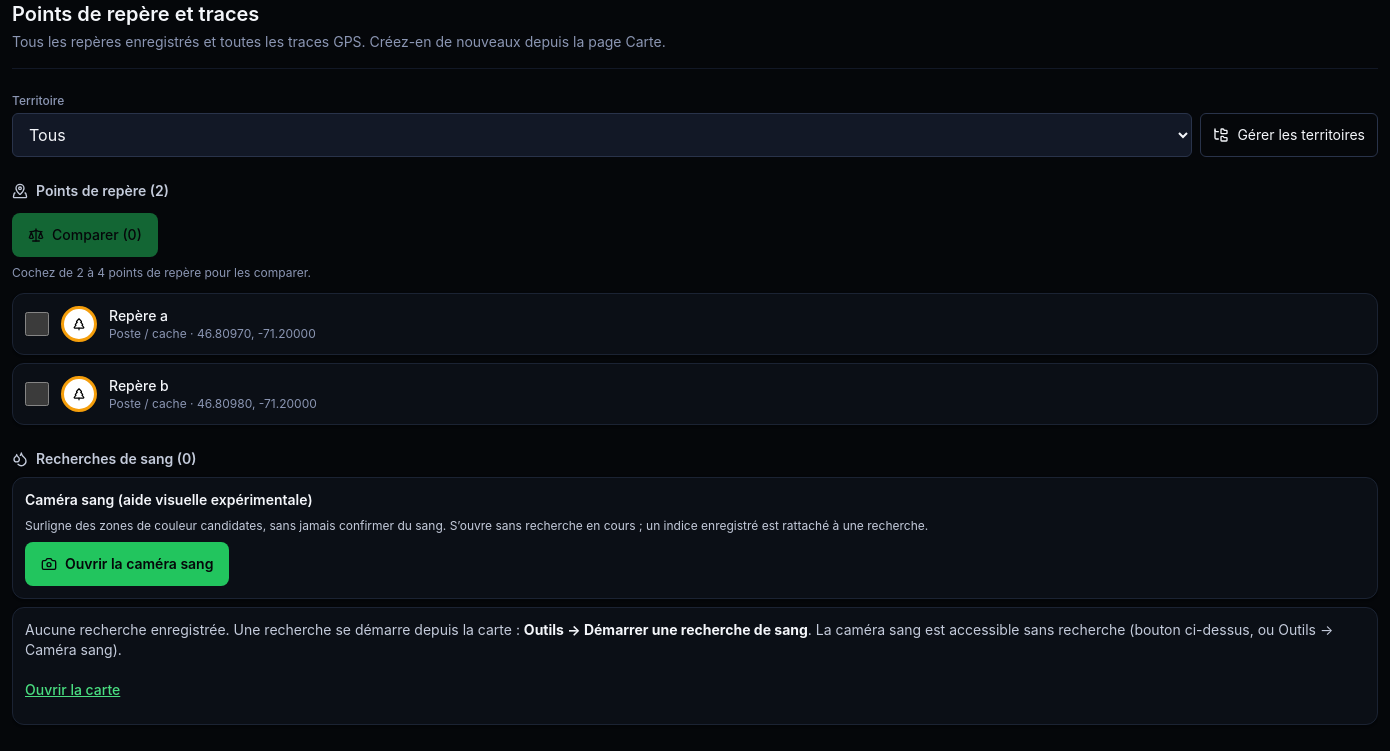
WaypointsPage — comparison selection › opens the comparison panel with the selected waypoints
Click the checkbox named "Comparer : Repère a" at (37,324), box left=25, top=312, right=49, bottom=336
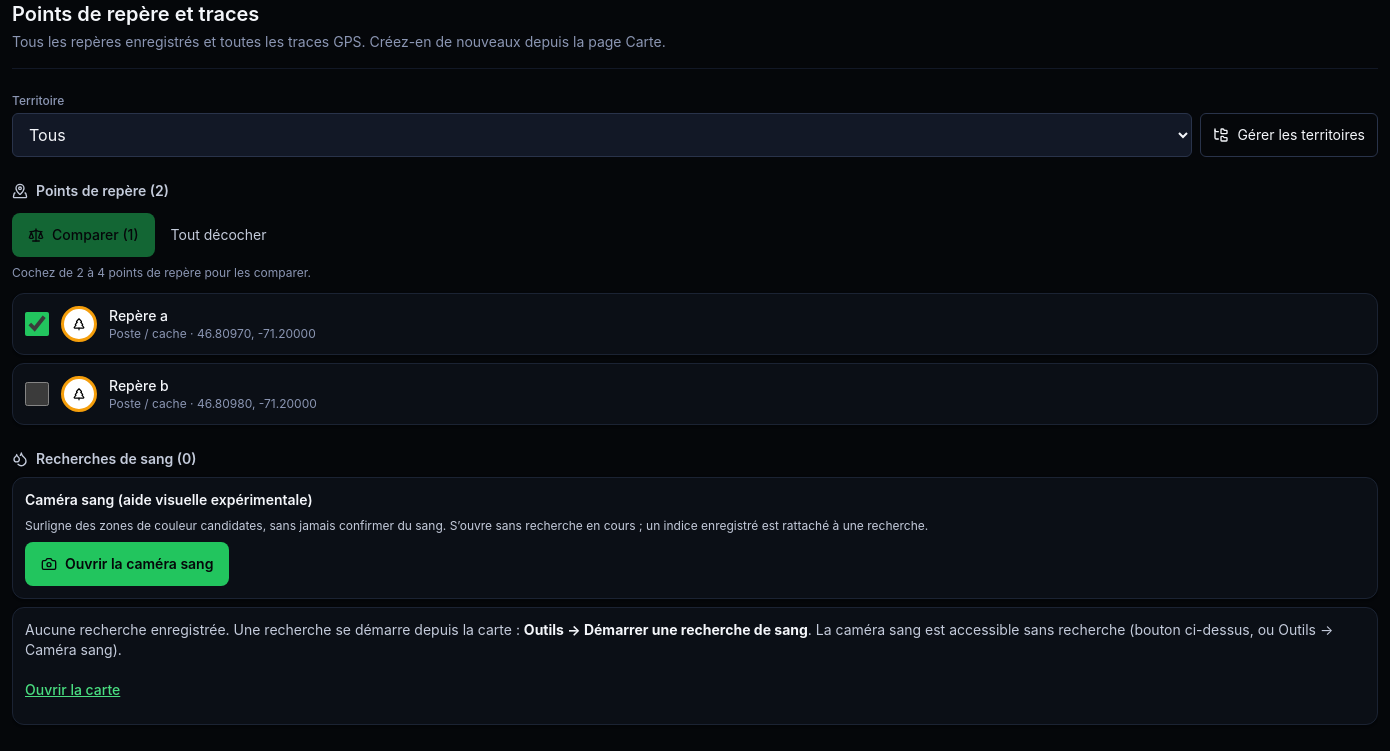
Click the checkbox named "Comparer : Repère b" at (37,394), box left=25, top=382, right=49, bottom=406
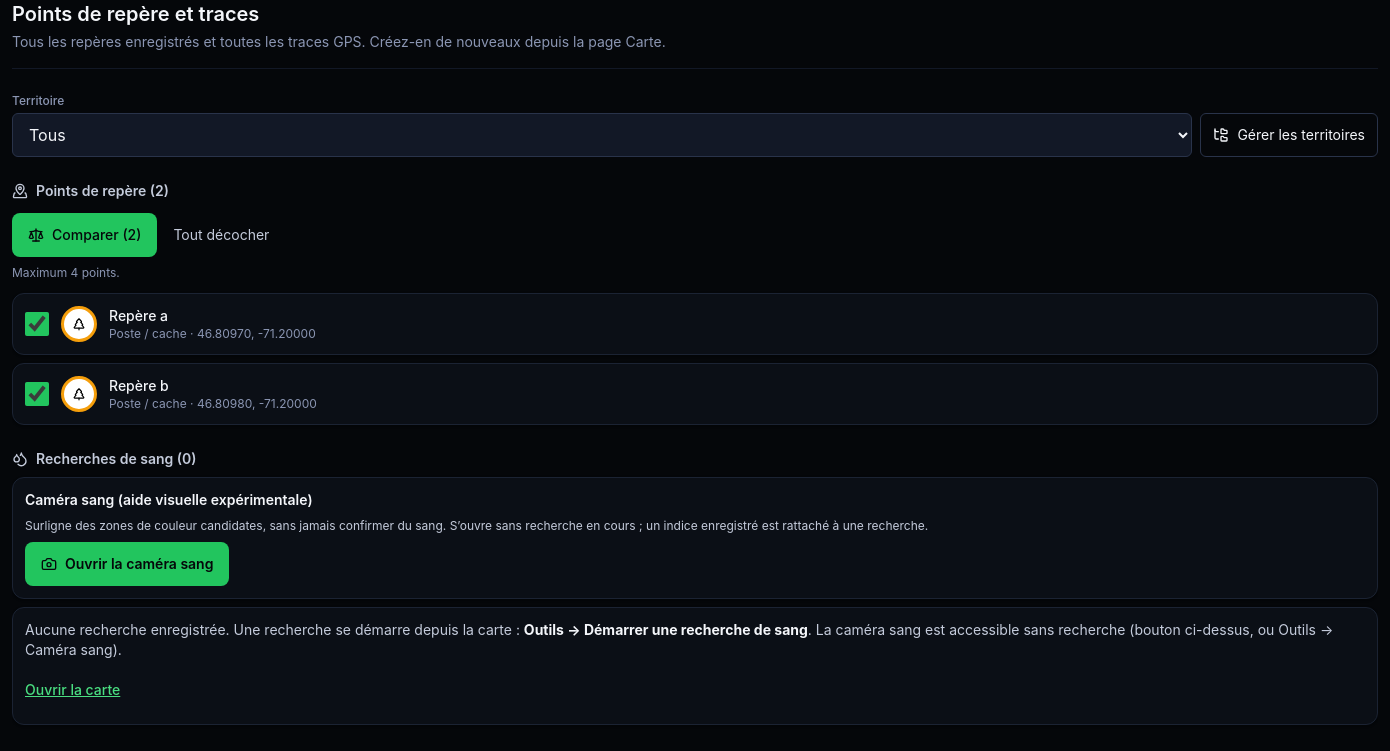
Check: the element "Comparaison de caches" is not shown
Click the button "Comparer (2)" at (85,235), box left=12, top=213, right=157, bottom=257
(page scrolled)
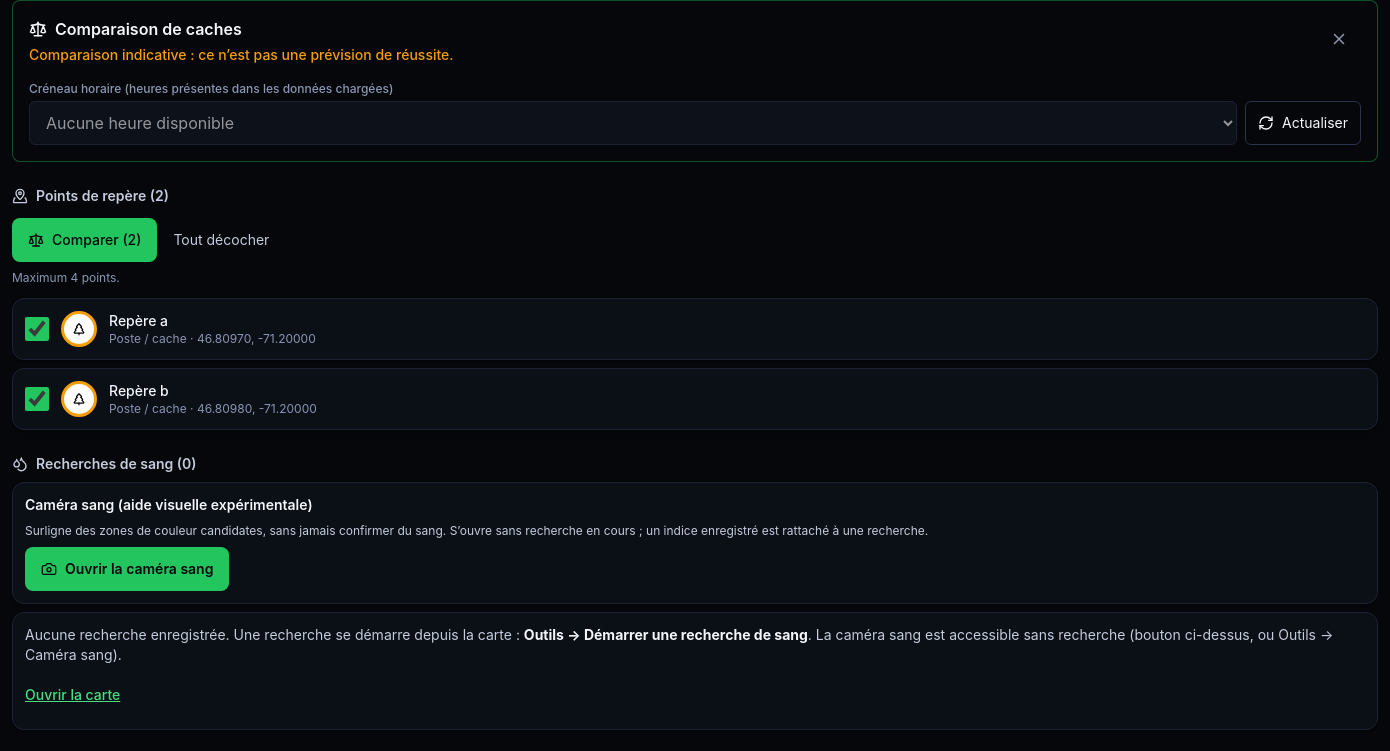
Check: the element "Comparaison de caches" is shown, box left=12, top=0, right=1378, bottom=162
